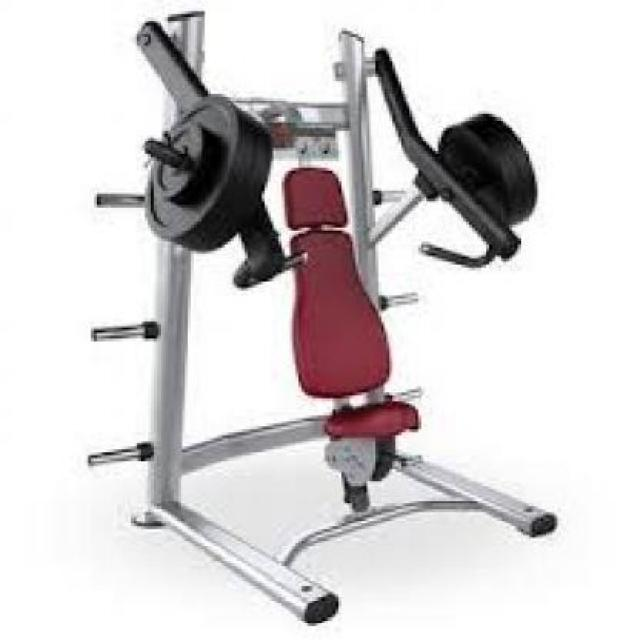Chest Press machine: (83, 6, 568, 632)
